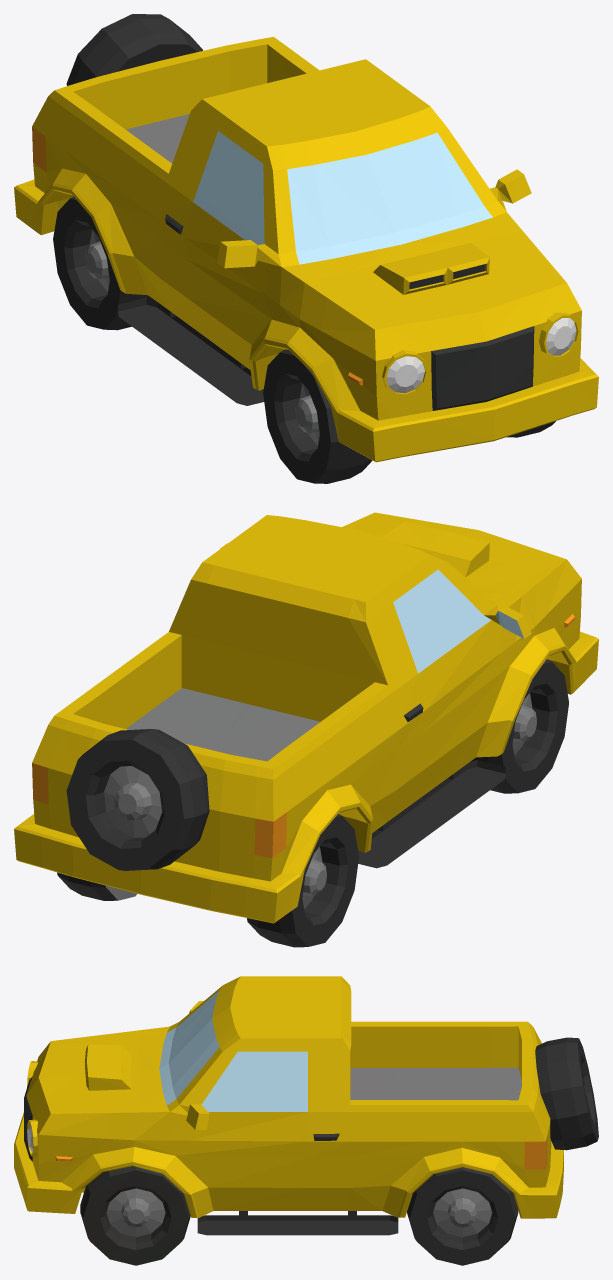
File: jeep.glb
The picture shows the model from 3 angles, top to bottom: view 1: azimuth 30°, elevation 25°; view 2: azimuth 150°, elevation 25°; view 3: azimuth 270°, elevation 25°; orthographic projection. The views are drawn at different scales.
Visible parts, largest first — view 1: Jeep; view 2: Jeep; view 3: Jeep.
Part boxes in pixels (<box>): Jeep: <box>14,14,598,483</box>; Jeep: <box>14,512,598,947</box>; Jeep: <box>14,976,598,1265</box>.
Bounding box in the file's own units: 1.89 × 1.63 × 4.
Materials: 1 (1 with a texture image).
